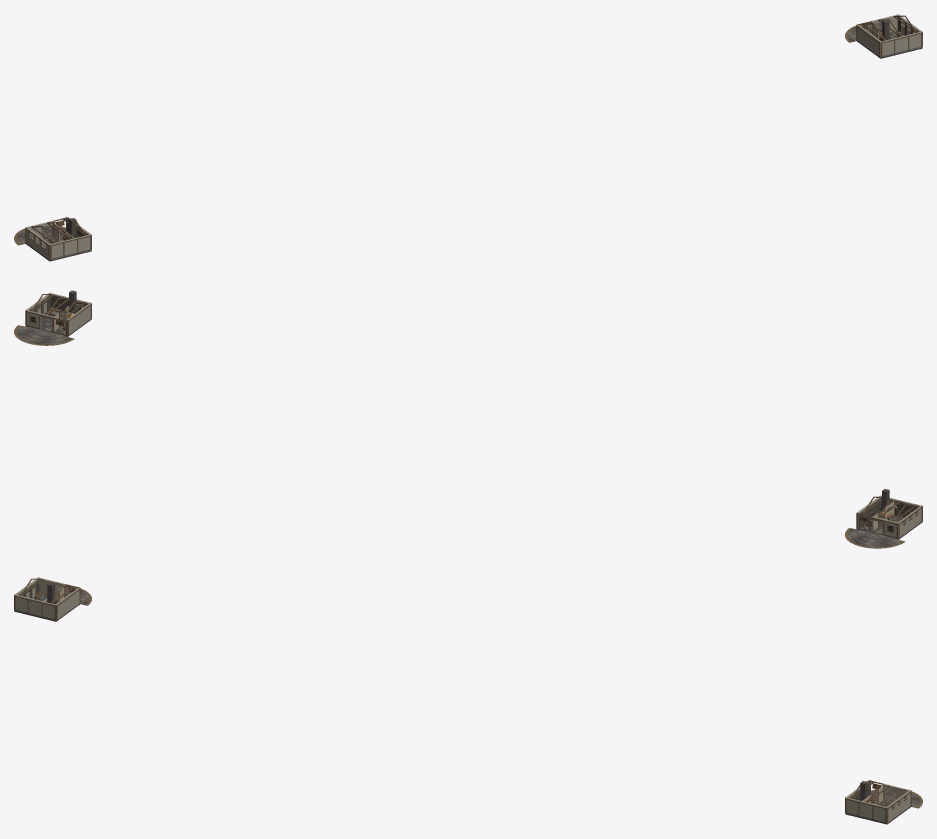
File: blacksmith_floor_update.fbx
3 views of the same model, one above another, from view 1: azimuth 30°, elevation 25°; view 2: azimuth 150°, elevation 25°; view 3: azimuth 330°, elevation 25° (orthographic).
Parts seen in each view (by area): view 1: B_Blacksmith_Forge, A_Blacksmith_Forge; view 2: B_Blacksmith_Forge, A_Blacksmith_Forge, B_Blacksmith_Forecourt, A_Blacksmith_Forecourt; view 3: A_Blacksmith_Forge, B_Blacksmith_Forge.
Part boxes in pixels (left/top/right/bottom): B_Blacksmith_Forge: left=856, top=14, right=922, bottom=58; A_Blacksmith_Forge: left=25, top=217, right=91, bottom=261; B_Blacksmith_Forge: left=25, top=290, right=91, bottom=336; A_Blacksmith_Forge: left=856, top=489, right=922, bottom=539; B_Blacksmith_Forecourt: left=14, top=325, right=74, bottom=345; A_Blacksmith_Forecourt: left=845, top=528, right=905, bottom=548; A_Blacksmith_Forge: left=14, top=577, right=80, bottom=621; B_Blacksmith_Forge: left=845, top=780, right=911, bottom=824.
Bounding box in the file's own units: 594 × 19 × 47.27.
